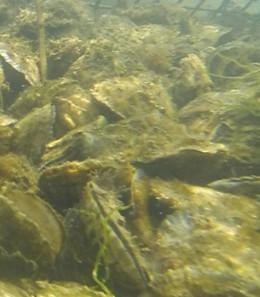3: (0, 189, 67, 285)
Oyster- Indeterminate: (81, 184, 148, 288), (39, 141, 79, 173), (209, 175, 260, 191)
Oyster-Closed: (156, 211, 260, 278), (79, 115, 225, 162), (151, 182, 260, 226), (38, 160, 136, 206), (12, 79, 92, 126), (91, 76, 174, 120), (65, 40, 138, 89), (151, 268, 260, 297), (12, 105, 56, 162), (0, 280, 109, 297), (0, 40, 40, 86), (131, 170, 156, 242), (179, 91, 248, 117), (0, 153, 37, 191)
